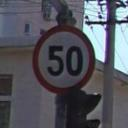speed_limit_50: (33, 26, 96, 94)
